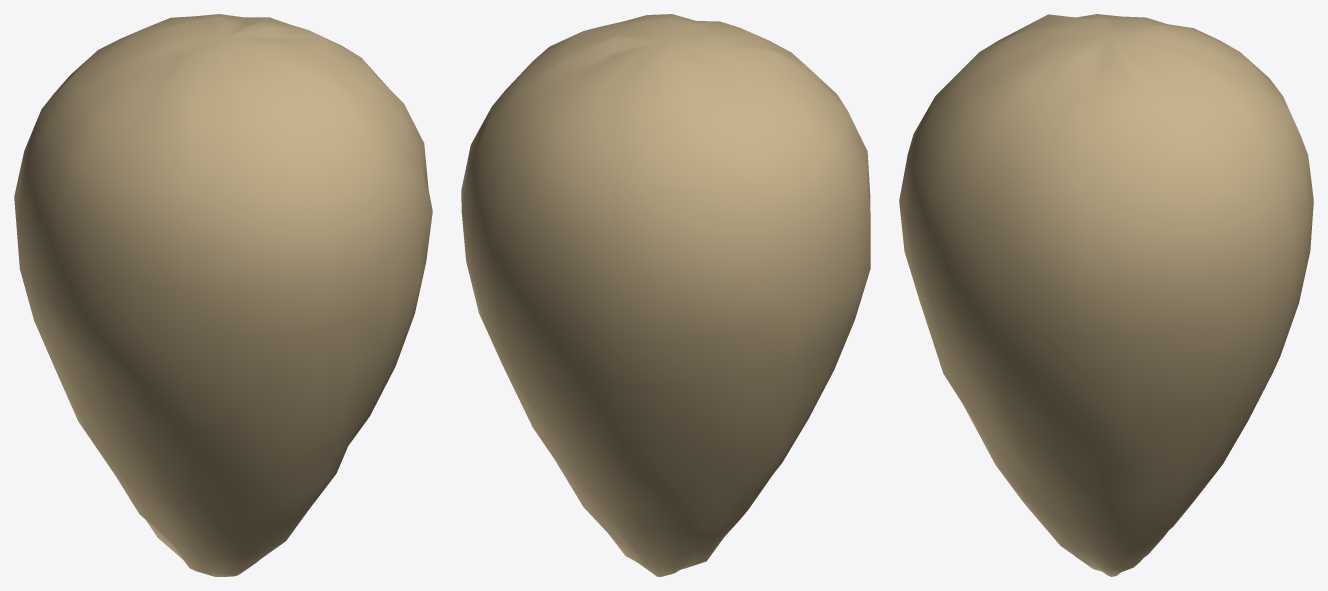
Rendered from Kiwi.glb.
The picture shows the model from 3 angles, left to right: view 1: azimuth 30°, elevation 25°; view 2: azimuth 150°, elevation 25°; view 3: azimuth 270°, elevation 25°; orthographic projection.
Parts seen in each view (by area): view 1: Kiwi; view 2: Kiwi; view 3: Kiwi.
Boxes of the visible parts, <box> form: Kiwi: <box>14,14,432,576</box>; Kiwi: <box>461,14,870,576</box>; Kiwi: <box>899,14,1313,576</box>.
Bounding box in the file's own units: 0.5915 × 0.8411 × 0.5899.
